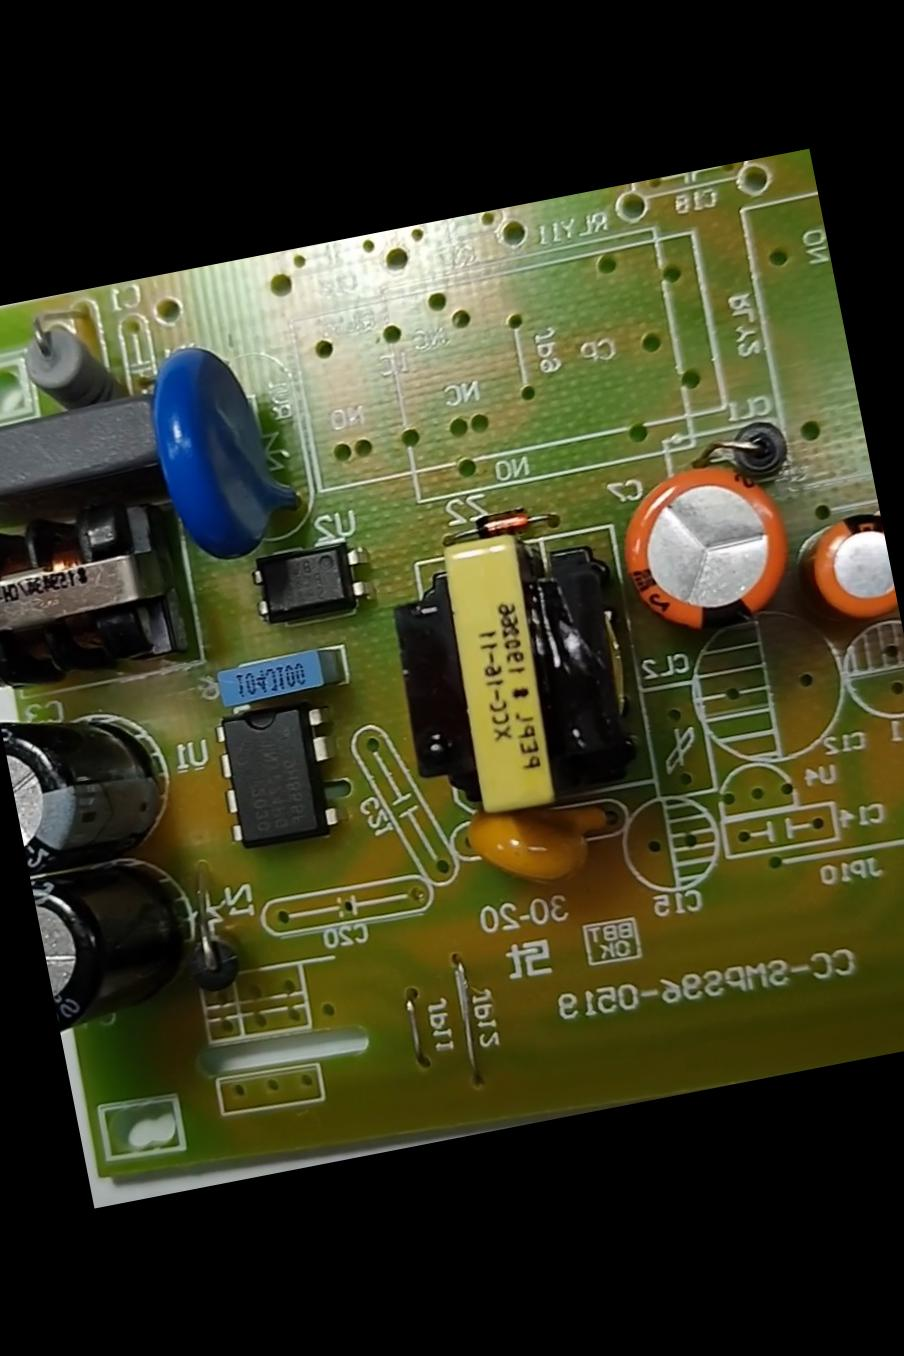Cap1: (586, 431, 817, 672)
Cap2: (790, 498, 901, 639)
Cap3: (0, 681, 187, 881)
Cap4: (29, 842, 210, 1039)
MOSFET: (203, 687, 353, 865)
Mov: (130, 328, 316, 576)
Resistor: (10, 311, 125, 415)
Transformer: (365, 500, 670, 838), (0, 474, 220, 709)
